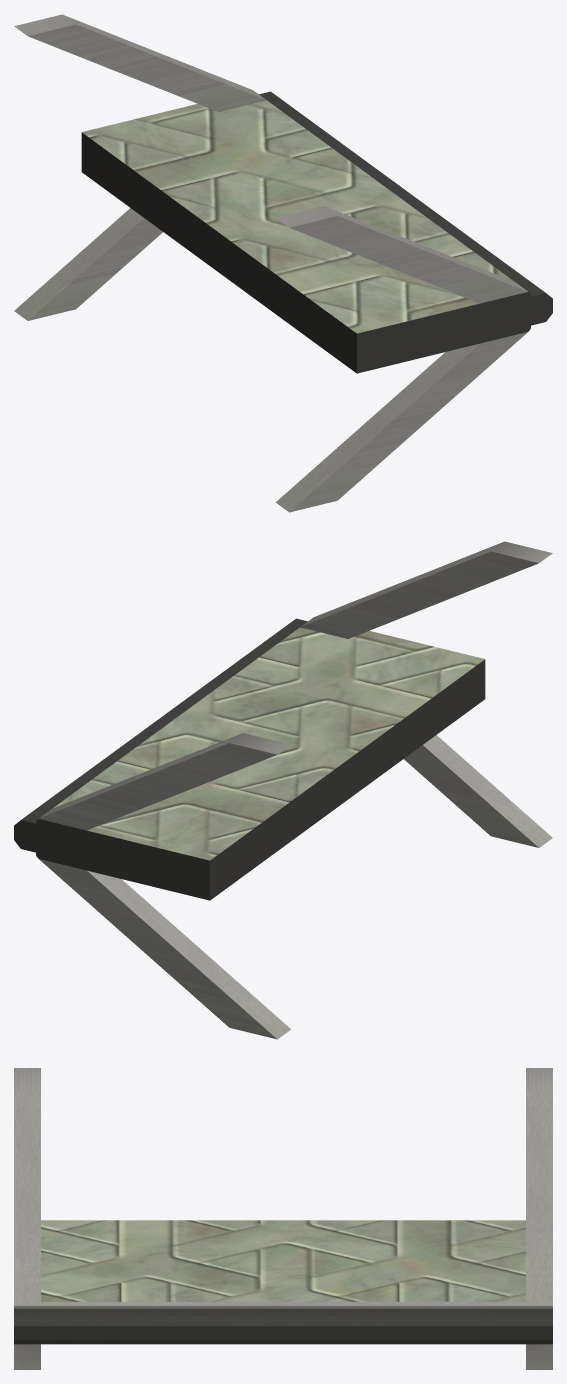
The model's file is BossPlatformSupported.fbx.
3 views of the same model, one above another, from view 1: azimuth 30°, elevation 25°; view 2: azimuth 150°, elevation 25°; view 3: azimuth 270°, elevation 25° (orthographic). The views are drawn at different scales.
Visible parts, largest first — view 1: BossPlatformSupported; view 2: BossPlatformSupported; view 3: BossPlatformSupported.
Part boxes in pixels (<box>): BossPlatformSupported: <box>14,14,552,512</box>; BossPlatformSupported: <box>14,541,552,1039</box>; BossPlatformSupported: <box>14,1068,552,1369</box>.
Bounding box in the file's own units: 3.06 × 3.16 × 5.53.
1 material, 1 textured.
